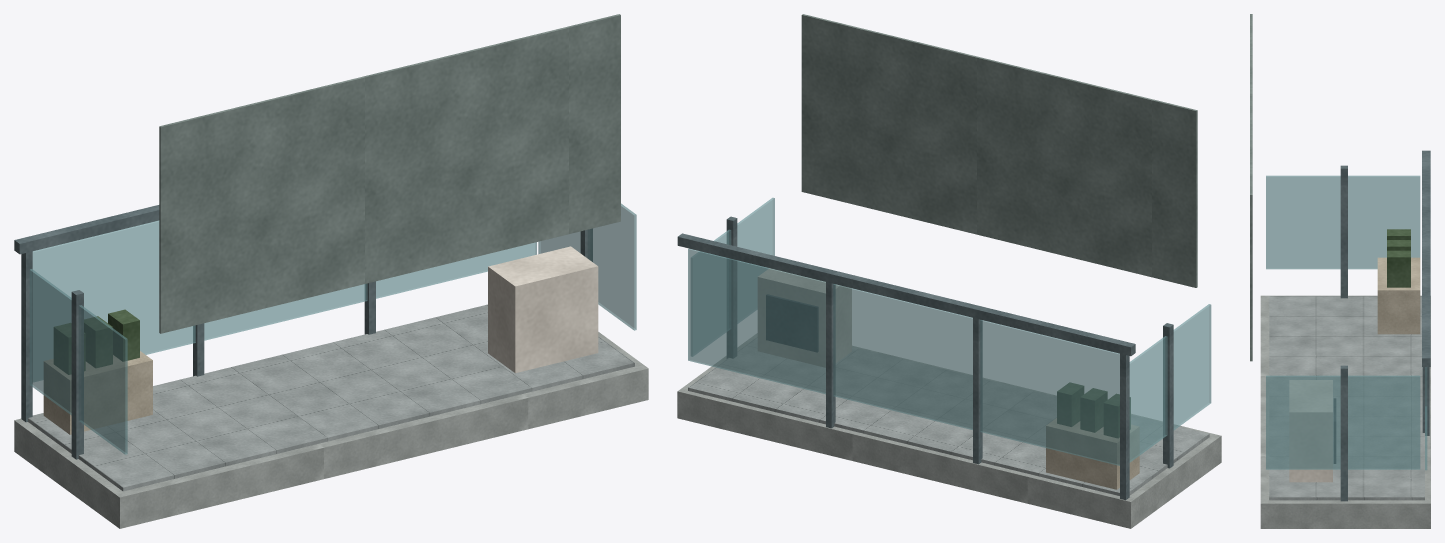
The model's file is Balcony.glb.
3 views of the same model, side by side, from view 1: azimuth 30°, elevation 25°; view 2: azimuth 150°, elevation 25°; view 3: azimuth 270°, elevation 25° (orthographic). The views are drawn at different scales.
Visible parts, largest first — view 1: VIS_Curtain_Insert_0017, VIS_Balcony_Surface_0001, VIS_Balcony_Platform_0000, VIS_Balustrade_Glass_0006, VIS_AC_External_Unit_0015, VIS_Balcony_Side_Glass_0008, VIS_Planter_Box_0011, VIS_Balcony_Side_Glass_0010, VIS_Balustrade_Top_0005, VIS_Balcony_Side_Post_0007, VIS_Balustrade_Post_0002, VIS_Planter_Foliage_0014 (+2 smaller); view 2: VIS_Curtain_Insert_0017, VIS_Balustrade_Glass_0006, VIS_Balcony_Surface_0001, VIS_Balcony_Platform_0000, VIS_Balcony_Side_Glass_0008, VIS_Balustrade_Top_0005, VIS_Balcony_Side_Glass_0010, VIS_AC_External_Unit_0015, VIS_Planter_Box_0011, VIS_AC_Grille_0016, VIS_Balcony_Side_Post_0007, VIS_Balustrade_Post_0002 (+6 smaller); view 3: VIS_Balcony_Surface_0001, VIS_Balcony_Side_Glass_0010, VIS_Balcony_Side_Glass_0008, VIS_Balcony_Platform_0000, VIS_AC_External_Unit_0015, VIS_Planter_Box_0011, VIS_Balustrade_Top_0005, VIS_Balcony_Side_Post_0009, VIS_Balcony_Side_Post_0007, VIS_Curtain_Insert_0017, VIS_Planter_Foliage_0014, VIS_Balustrade_Post_0004 (+3 smaller).
Boxes of the visible parts, <box> form: VIS_Curtain_Insert_0017: <box>159,14,620,333</box>; VIS_Balcony_Surface_0001: <box>28,304,634,491</box>; VIS_Balcony_Platform_0000: <box>14,332,648,528</box>; VIS_Balustrade_Glass_0006: <box>32,220,536,381</box>; VIS_AC_External_Unit_0015: <box>488,246,598,373</box>; VIS_Balcony_Side_Glass_0008: <box>29,269,127,454</box>; VIS_Planter_Box_0011: <box>43,351,152,434</box>; VIS_Balcony_Side_Glass_0010: <box>538,203,636,330</box>; VIS_Balustrade_Top_0005: <box>14,205,159,254</box>; VIS_Balcony_Side_Post_0007: <box>71,290,83,459</box>; VIS_Balustrade_Post_0002: <box>21,251,32,422</box>; VIS_Planter_Foliage_0014: <box>108,309,139,361</box>; VIS_Curtain_Insert_0017: <box>801,14,1197,287</box>; VIS_Balustrade_Glass_0006: <box>688,248,1119,465</box>; VIS_Balcony_Surface_0001: <box>688,337,1209,495</box>; VIS_Balcony_Platform_0000: <box>677,333,1221,528</box>; VIS_Balcony_Side_Glass_0008: <box>1129,304,1211,462</box>; VIS_Balustrade_Top_0005: <box>677,233,1135,356</box>; VIS_Balcony_Side_Glass_0010: <box>691,197,774,356</box>; VIS_AC_External_Unit_0015: <box>758,268,851,367</box>; VIS_Planter_Box_0011: <box>1046,418,1139,489</box>; VIS_AC_Grille_0016: <box>766,294,818,352</box>; VIS_Balcony_Side_Post_0007: <box>1163,323,1173,468</box>; VIS_Balustrade_Post_0002: <box>1120,353,1129,500</box>; VIS_Balcony_Surface_0001: <box>1269,296,1424,500</box>; VIS_Balcony_Side_Glass_0010: <box>1266,375,1420,469</box>; VIS_Balcony_Side_Glass_0008: <box>1266,175,1420,269</box>; VIS_Balcony_Platform_0000: <box>1260,295,1430,528</box>; VIS_AC_External_Unit_0015: <box>1289,380,1332,482</box>; VIS_Planter_Box_0011: <box>1377,257,1420,334</box>; VIS_Balustrade_Top_0005: <box>1422,150,1430,366</box>; VIS_Balcony_Side_Post_0009: <box>1340,365,1347,501</box>; VIS_Balcony_Side_Post_0007: <box>1340,165,1347,298</box>; VIS_Curtain_Insert_0017: <box>1250,14,1252,361</box>; VIS_Planter_Foliage_0014: <box>1387,250,1410,287</box>; VIS_Balustrade_Post_0004: <box>1422,367,1429,435</box>.
Size of the model in its own units: 3.7 by 2.66 by 1.36.
9 materials, 9 textured.
